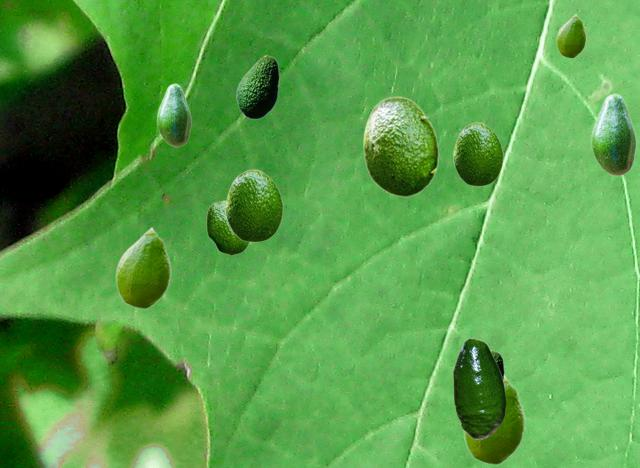avocado: (362, 96, 438, 196), (463, 373, 524, 464), (453, 338, 505, 438), (115, 226, 170, 308), (225, 169, 282, 241), (590, 93, 635, 175), (453, 122, 502, 185), (236, 55, 278, 118), (206, 200, 249, 254), (156, 83, 190, 146), (556, 13, 585, 57), (491, 350, 503, 377)
